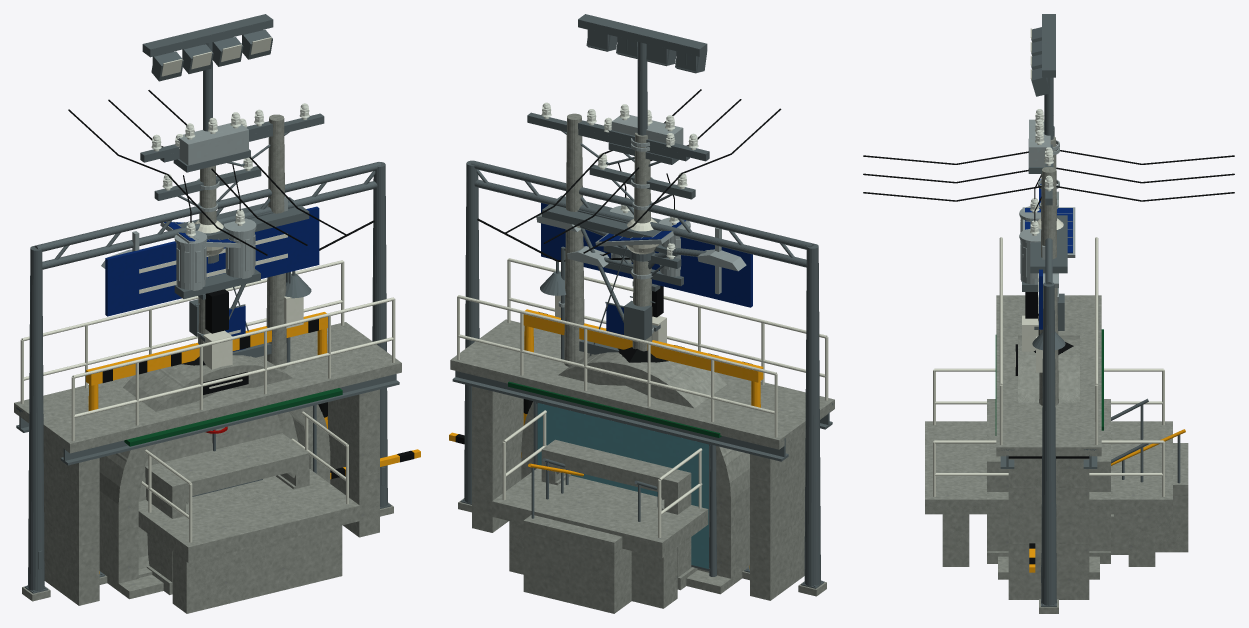
The model's file is infra_01.glb.
3 renders of one model, left to right at view 1: azimuth 30°, elevation 25°; view 2: azimuth 150°, elevation 25°; view 3: azimuth 270°, elevation 25°, orthographic. The views are drawn at different scales.
Visible parts, largest first — view 1: infra_098_LOD0_concrete, infra_091_LOD0_steel, infra_098_LOD2_concrete, infra_096_LOD0_concrete, infra_096_LOD2_concrete, infra_098_LOD0_white, infra_099_LOD0_concrete, infra_095_LOD0_concrete, infra_099_LOD2_concrete, infra_091_LOD2_blue, infra_091_LOD0_blue, infra_082_LOD0_steel (+26 smaller); view 2: infra_098_LOD0_concrete, infra_098_LOD2_concrete, infra_091_LOD0_steel, infra_096_LOD0_concrete, infra_099_LOD0_concrete, infra_088_LOD2_glass, infra_098_LOD0_white, infra_097_LOD0_concrete, infra_095_LOD0_concrete, infra_065_LOD0_concrete, infra_096_LOD2_concrete, infra_091_LOD0_blue (+28 smaller); view 3: infra_096_LOD2_concrete, infra_098_LOD2_concrete, infra_098_LOD0_concrete, infra_091_LOD0_steel, infra_096_LOD0_concrete, infra_096_LOD0_white, infra_095_LOD2_concrete, infra_099_LOD0_concrete, infra_069_LOD0_black, infra_095_LOD0_concrete, infra_097_LOD0_concrete, infra_082_LOD0_steel (+10 smaller).
Part boxes in pixels (left/top/right/bottom): infra_098_LOD0_concrete: left=14, top=323, right=401, bottom=604; infra_091_LOD0_steel: left=26, top=162, right=389, bottom=591; infra_098_LOD2_concrete: left=14, top=322, right=401, bottom=605; infra_096_LOD0_concrete: left=138, top=470, right=358, bottom=608; infra_096_LOD2_concrete: left=138, top=469, right=359, bottom=613; infra_098_LOD0_white: left=20, top=260, right=395, bottom=441; infra_099_LOD0_concrete: left=99, top=343, right=330, bottom=568; infra_095_LOD0_concrete: left=146, top=435, right=308, bottom=580; infra_099_LOD2_concrete: left=99, top=356, right=330, bottom=590; infra_091_LOD2_blue: left=105, top=206, right=319, bottom=316; infra_091_LOD0_blue: left=106, top=230, right=318, bottom=315; infra_082_LOD0_steel: left=143, top=14, right=272, bottom=131; infra_098_LOD0_concrete: left=451, top=320, right=834, bottom=599; infra_098_LOD2_concrete: left=450, top=319, right=834, bottom=600; infra_091_LOD0_steel: left=461, top=160, right=823, bottom=586; infra_096_LOD0_concrete: left=492, top=468, right=706, bottom=607; infra_099_LOD0_concrete: left=521, top=352, right=749, bottom=577; infra_088_LOD2_glass: left=537, top=403, right=708, bottom=568; infra_098_LOD0_white: left=457, top=258, right=828, bottom=437; infra_097_LOD0_concrete: left=524, top=521, right=629, bottom=605; infra_095_LOD0_concrete: left=542, top=440, right=691, bottom=576; infra_065_LOD0_concrete: left=564, top=113, right=638, bottom=366; infra_096_LOD2_concrete: left=492, top=468, right=708, bottom=608; infra_091_LOD0_blue: left=541, top=203, right=752, bottom=306; infra_096_LOD2_concrete: left=925, top=421, right=1172, bottom=566; infra_098_LOD2_concrete: left=996, top=295, right=1101, bottom=599; infra_098_LOD0_concrete: left=997, top=296, right=1100, bottom=599; infra_091_LOD0_steel: left=1041, top=126, right=1056, bottom=605; infra_096_LOD0_concrete: left=926, top=422, right=1171, bottom=566; infra_096_LOD0_white: left=933, top=368, right=1164, bottom=496; infra_095_LOD2_concrete: left=987, top=399, right=1110, bottom=551; infra_099_LOD0_concrete: left=1018, top=336, right=1079, bottom=402; infra_069_LOD0_black: left=863, top=149, right=1234, bottom=201; infra_095_LOD0_concrete: left=987, top=399, right=1110, bottom=491; infra_097_LOD0_concrete: left=1155, top=443, right=1187, bottom=551; infra_082_LOD0_steel: left=1033, top=14, right=1055, bottom=139.
Bounding box in the file's own units: 6.7 × 8.72 × 6.
Materials: 21 (17 with a texture image).
